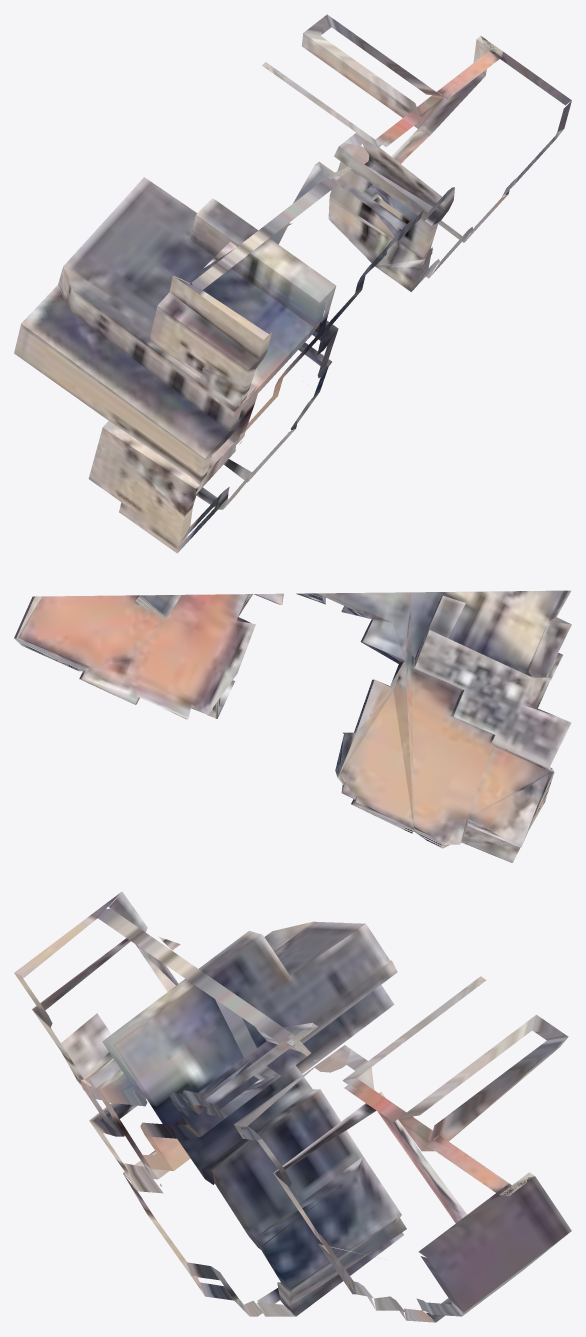
3 views of the same model, one above another, from view 1: azimuth 30°, elevation 25°; view 2: azimuth 150°, elevation 25°; view 3: azimuth 270°, elevation 25° (orthographic). The views are drawn at different scales.
Size of the model in its own units: 47.37 by 26.68 by 30.8.
1 material, 1 textured.
